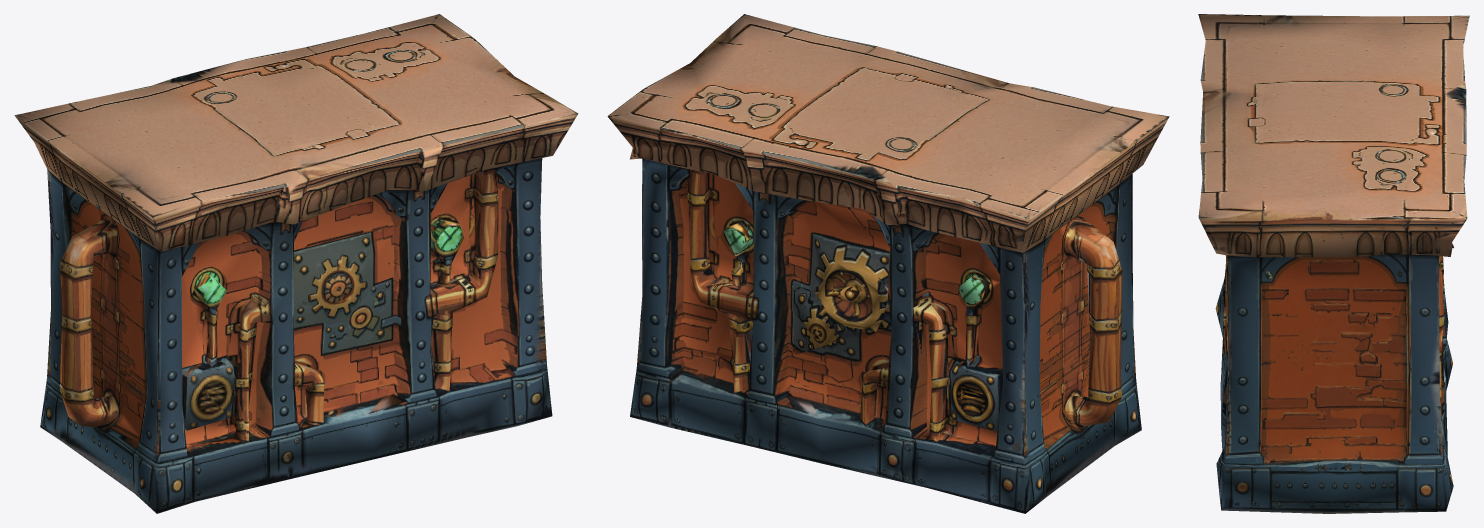
File: Varco_IndustrialWall.fbx
3 views of the same model, side by side, from view 1: azimuth 30°, elevation 25°; view 2: azimuth 150°, elevation 25°; view 3: azimuth 270°, elevation 25° (orthographic). The views are drawn at different scales.
Visible parts, largest first — view 1: texture_mapping; view 2: texture_mapping; view 3: texture_mapping.
Boxes of the visible parts, left/top/right/bottom form: texture_mapping: left=14, top=14, right=578, bottom=513; texture_mapping: left=607, top=14, right=1169, bottom=513; texture_mapping: left=1198, top=14, right=1469, bottom=513.
Size of the model in its own units: 0.9988 by 0.5404 by 0.6802.
1 material, 1 textured.
